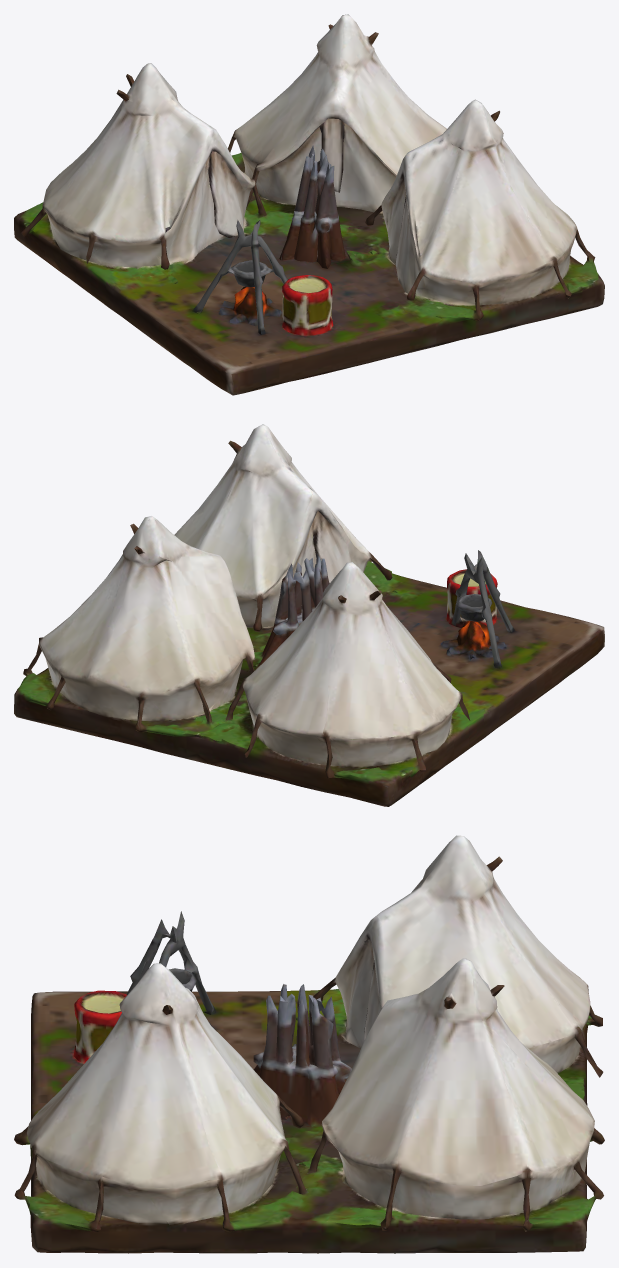
Rendered from camp_a.glb.
3 renders of one model, top to bottom at view 1: azimuth 30°, elevation 25°; view 2: azimuth 150°, elevation 25°; view 3: azimuth 270°, elevation 25°, orthographic. The views are drawn at different scales.
Parts seen in each view (by area): view 1: world; view 2: world; view 3: world.
Boxes of the visible parts, x1,y1,x2,y2 form: world: [14, 14, 604, 395]; world: [14, 424, 604, 806]; world: [14, 835, 604, 1253].
Bounding box in the file's own units: 0.9969 × 0.446 × 0.9939.
Materials: 1 (1 with a texture image).
